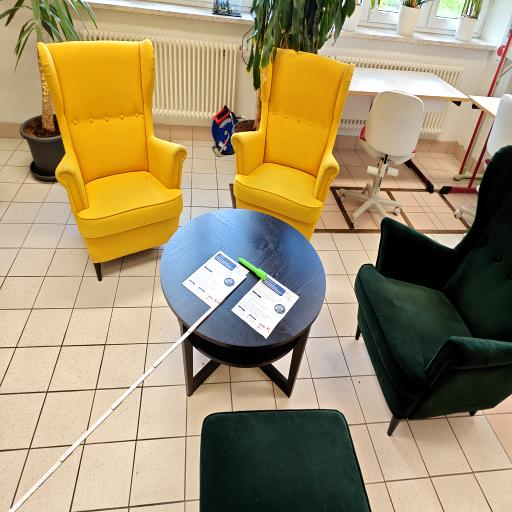Probe-Detection: (238, 257, 267, 280)
